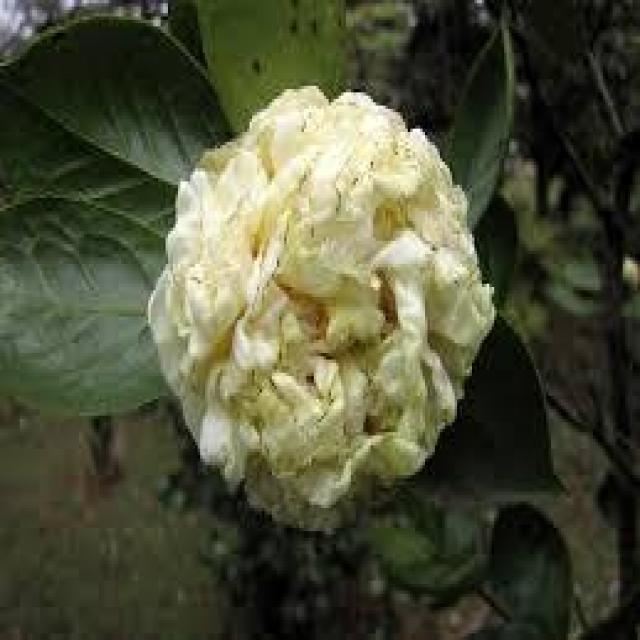organic waste: (152, 96, 481, 508)
